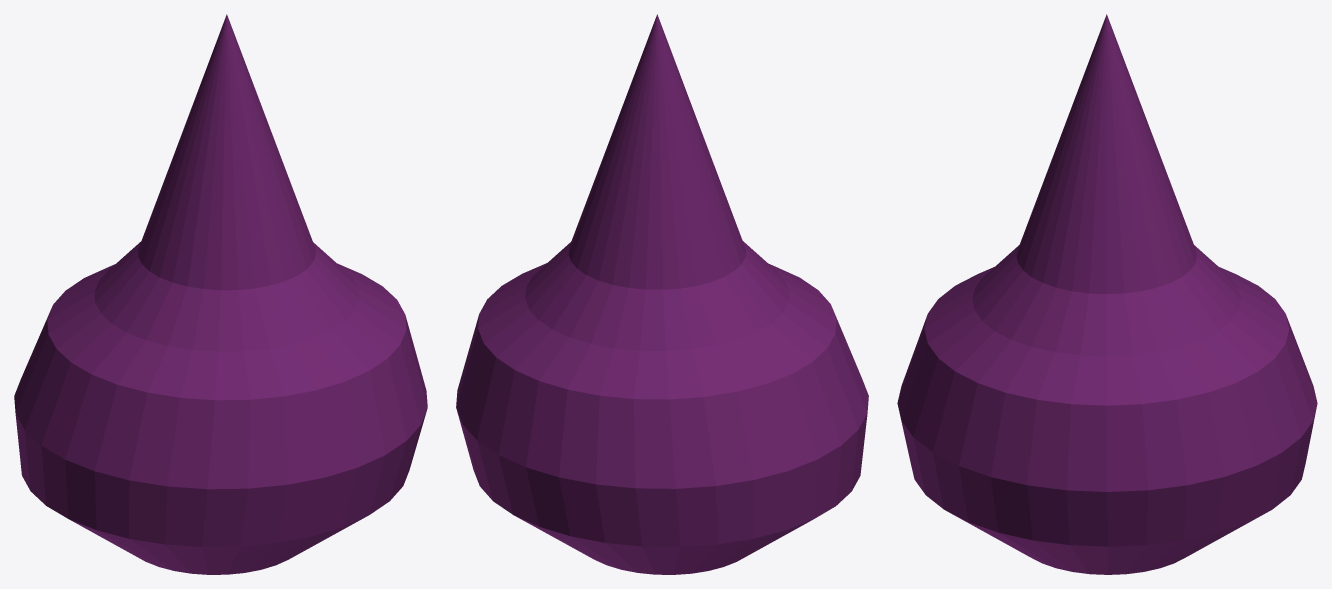
File: инжир_для_Приматов.fbx
3 renders of one model, left to right at view 1: azimuth 30°, elevation 25°; view 2: azimuth 150°, elevation 25°; view 3: azimuth 270°, elevation 25°, orthographic.
Parts seen in each view (by area): view 1: Сиконий_для_грызуноприматов; view 2: Сиконий_для_грызуноприматов; view 3: Сиконий_для_грызуноприматов.
Part boxes in pixels (<box>): Сиконий_для_грызуноприматов: <box>14,14,427,574</box>; Сиконий_для_грызуноприматов: <box>456,14,868,574</box>; Сиконий_для_грызуноприматов: <box>897,14,1317,574</box>.
Size of the model in its own units: 7.39 by 10.22 by 7.39.
